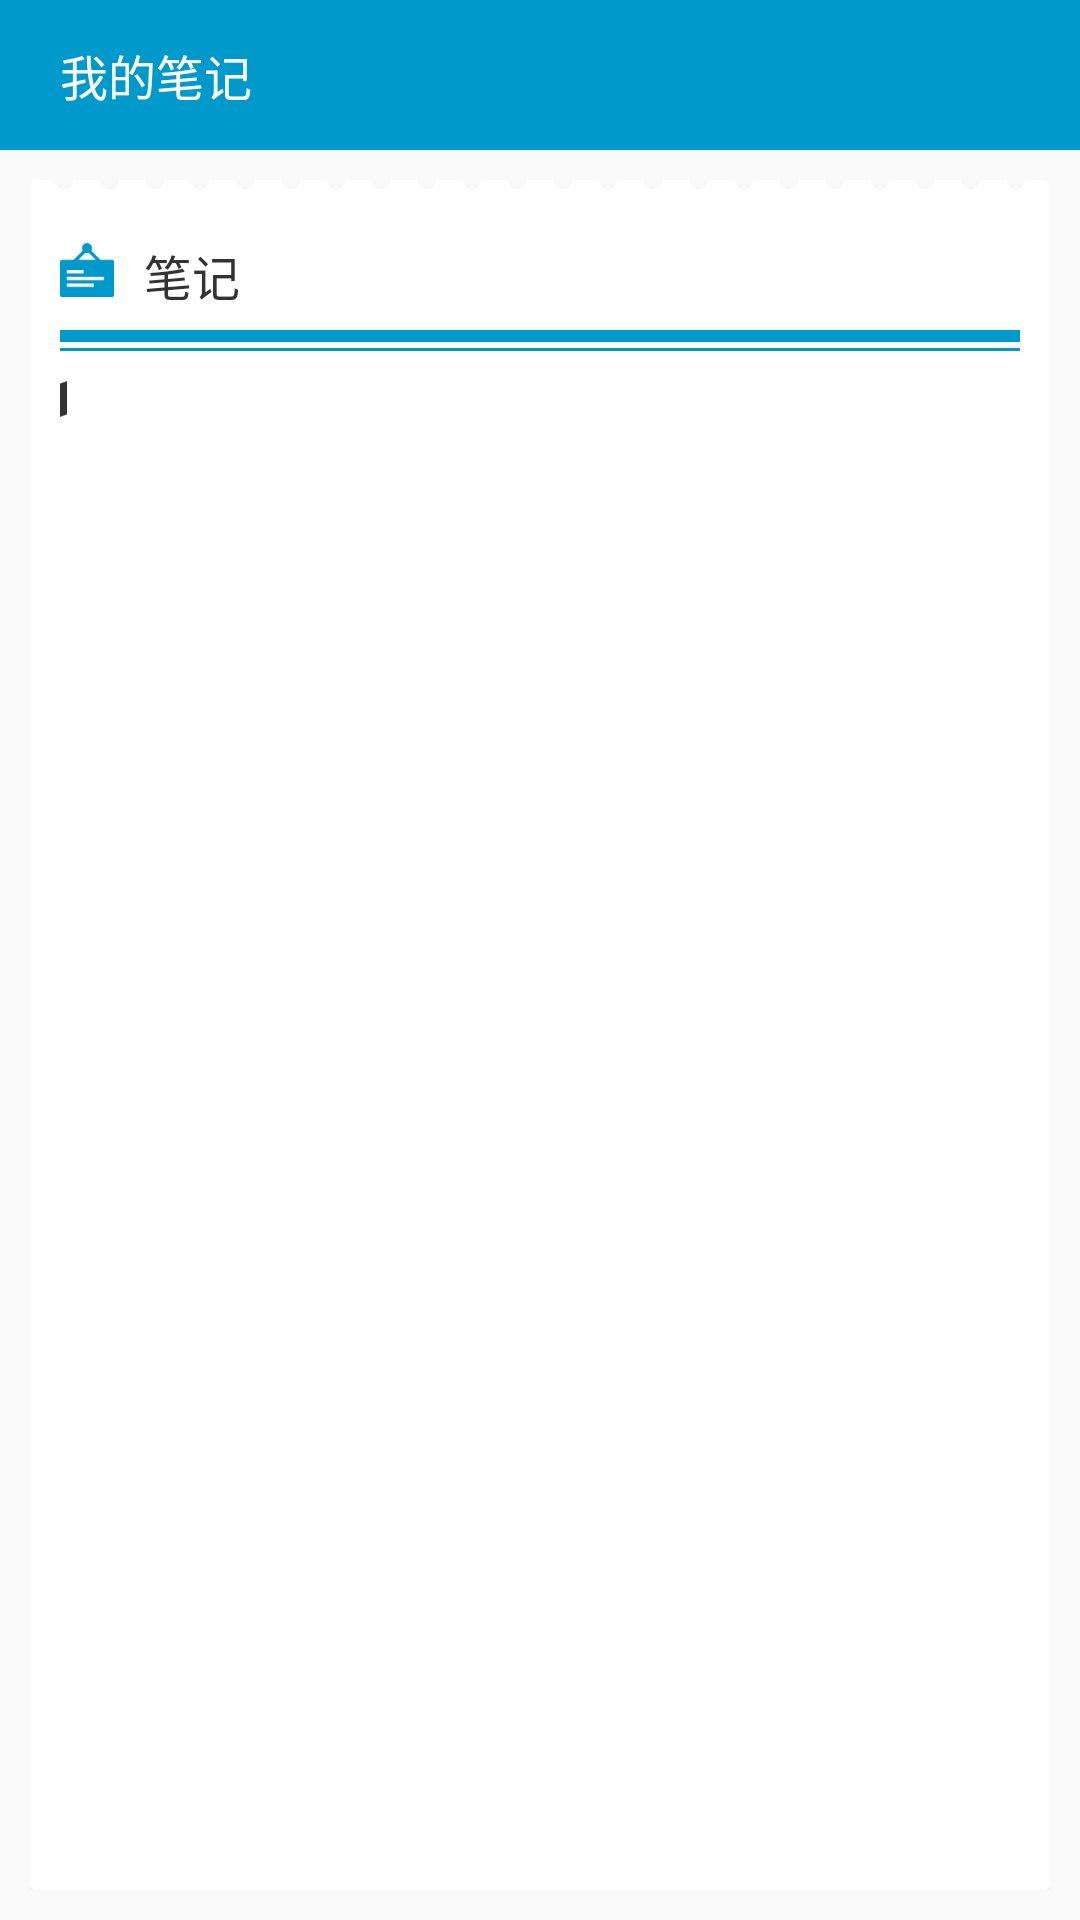

Screen size 1080 x 1920. Icon name, then its center in pixels as (x,y):
note: (87,270)
